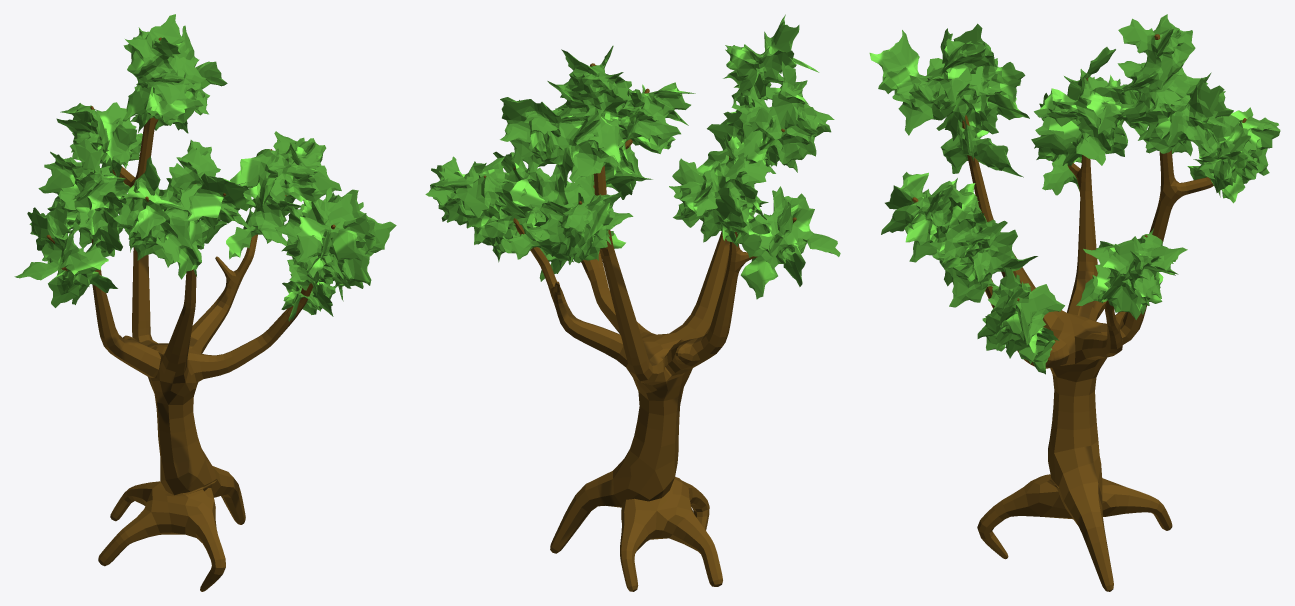
Rendered from arbol2.fbx.
The picture shows the model from 3 angles, left to right: view 1: azimuth 30°, elevation 25°; view 2: azimuth 150°, elevation 25°; view 3: azimuth 270°, elevation 25°; orthographic projection. The views are drawn at different scales.
Parts seen in each view (by area): view 1: Arbol.002; view 2: Arbol.002; view 3: Arbol.002.
Part boxes in pixels (bbox=[...]): Arbol.002: bbox=[14, 14, 396, 591]; Arbol.002: bbox=[425, 14, 840, 591]; Arbol.002: bbox=[869, 14, 1280, 591].
Size of the model in its own units: 868 by 932 by 1290.
